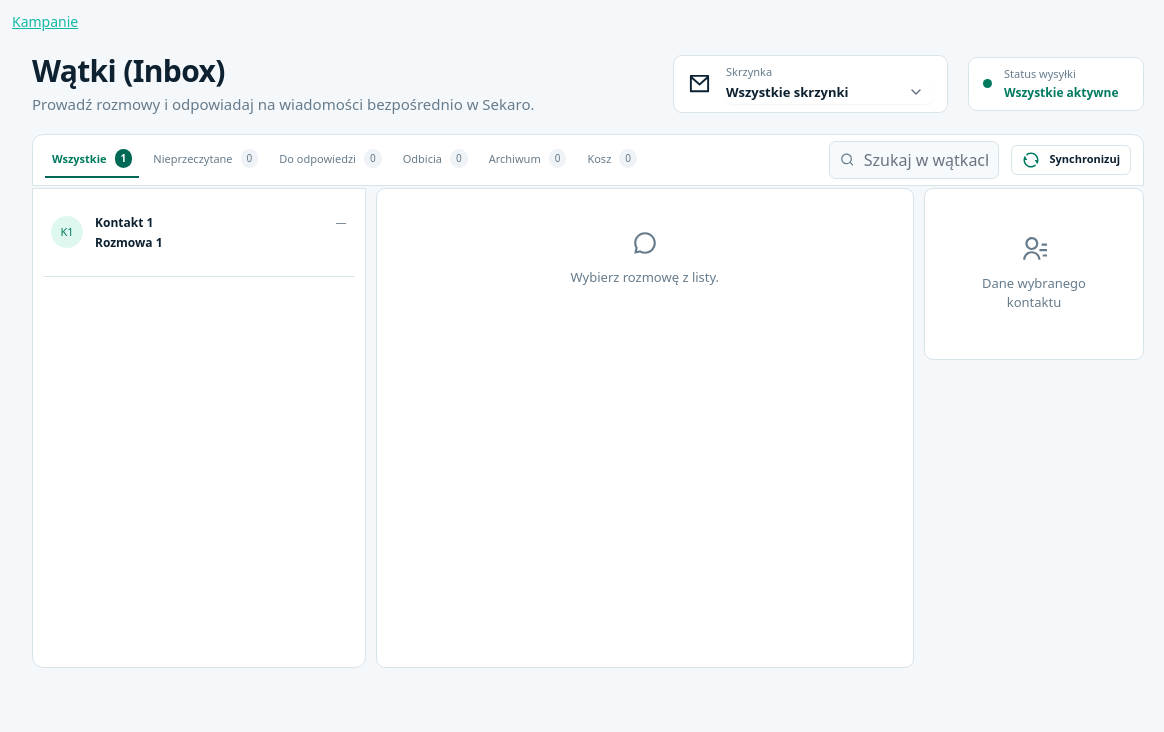
it: archives a thread without sending and preserves its draft on restore
The width and height of the screenshot is (1164, 732).
Click the button "K1 Kontakt 1 — Rozmowa 1". click: x=67, y=232
box: [43,198,355,277]
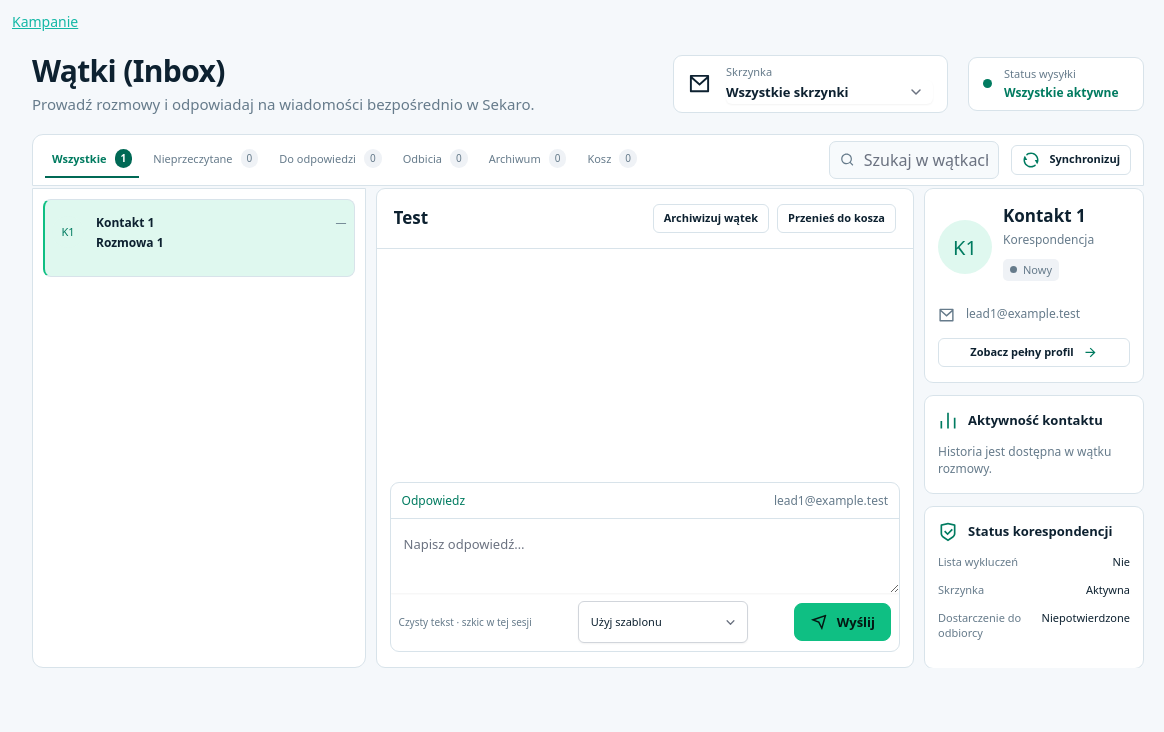
Type "Szkic do zachowania" into the text box named "Treść odpowiedzi". click: x=645, y=556
box: [391,519,899,593]
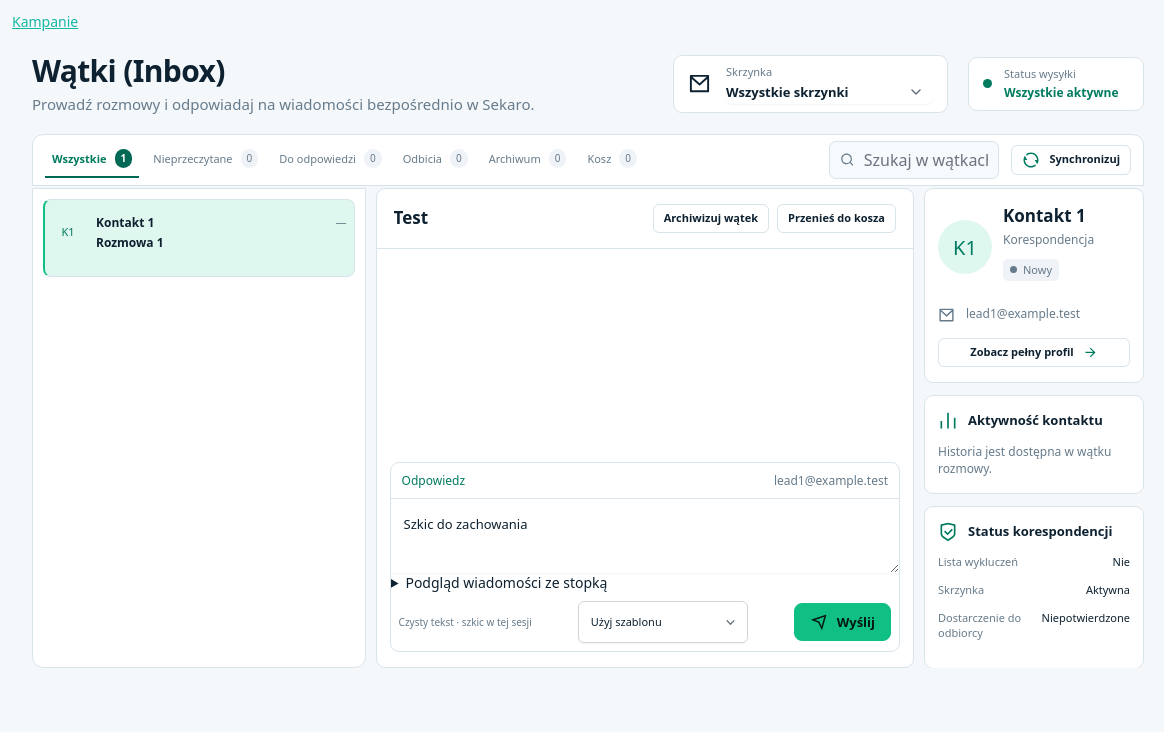
Click the button "Archiwizuj wątek". click: x=711, y=218
box: [653,204,769,232]
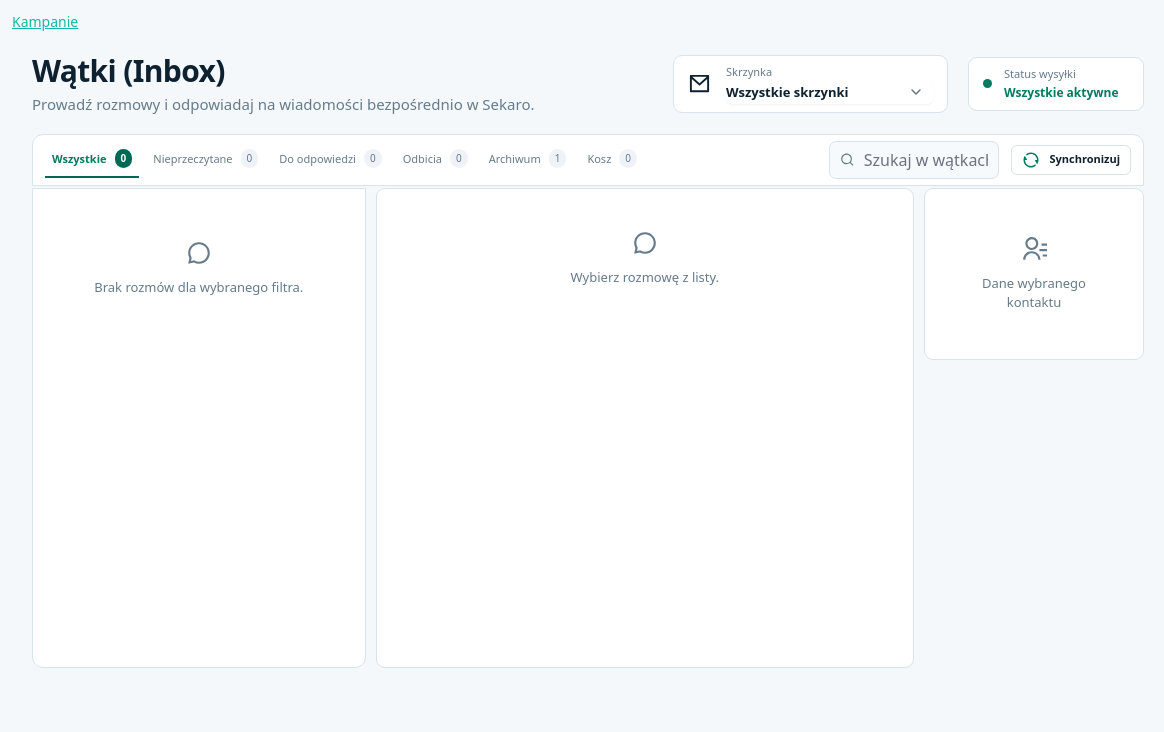
Check: the button "Archiwum 1" is shown
Check: the button "Kontakt 1" is gone
Click the button "Archiwum 1". click: x=528, y=160
box: [482,141,573,178]
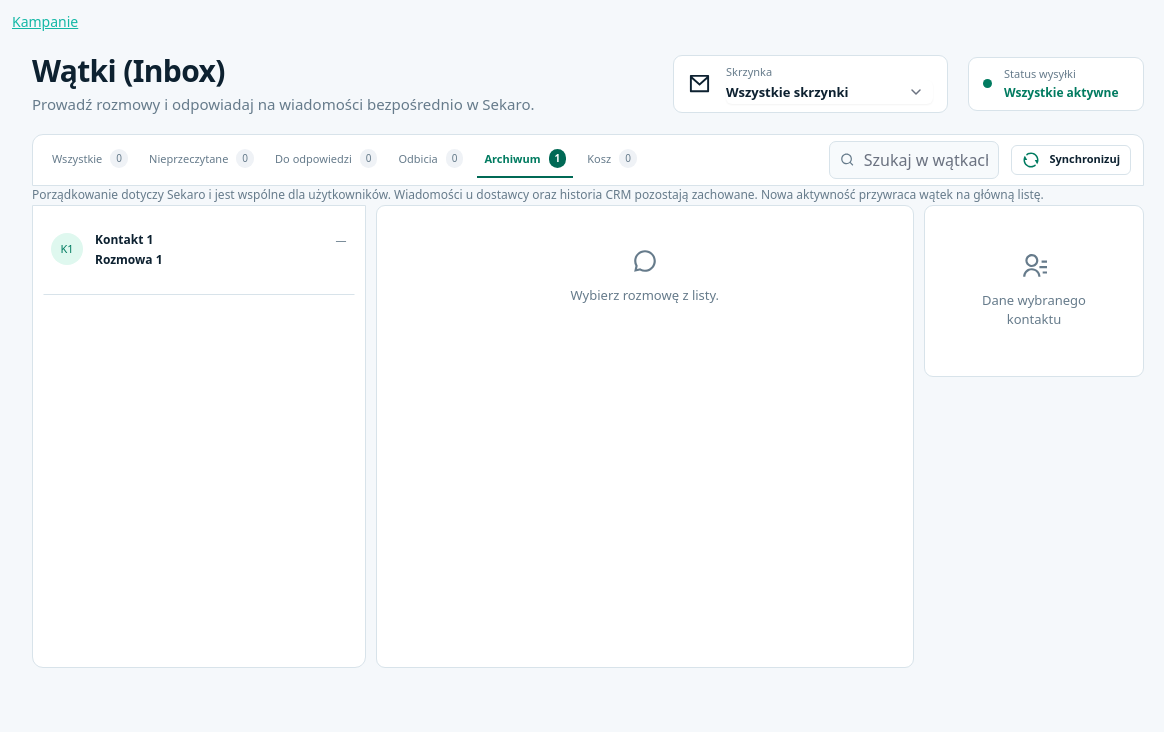
Click the button "K1 Kontakt 1 — Rozmowa 1". click: x=67, y=249
box: [43,216,355,295]
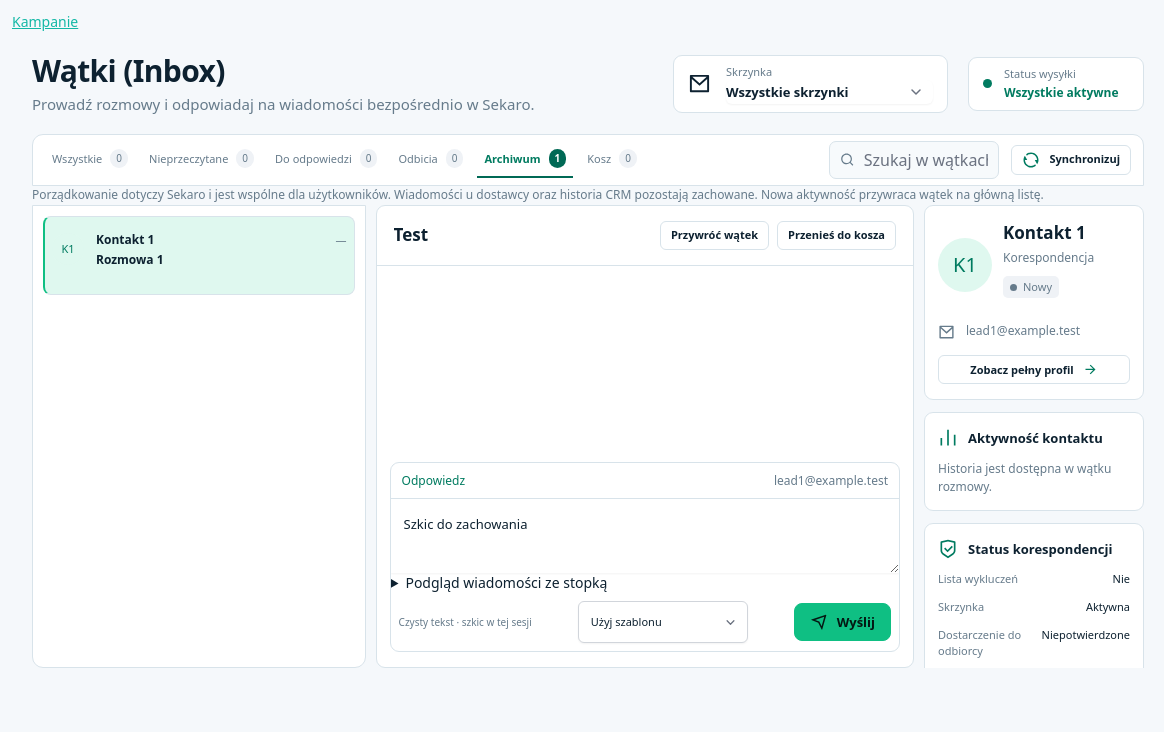
Check: the text box named "Treść odpowiedzi" holds "Szkic do zachowania", box [391,499,899,573]
Click the button "Przywróć wątek". click: x=714, y=235
box: [660,221,769,250]
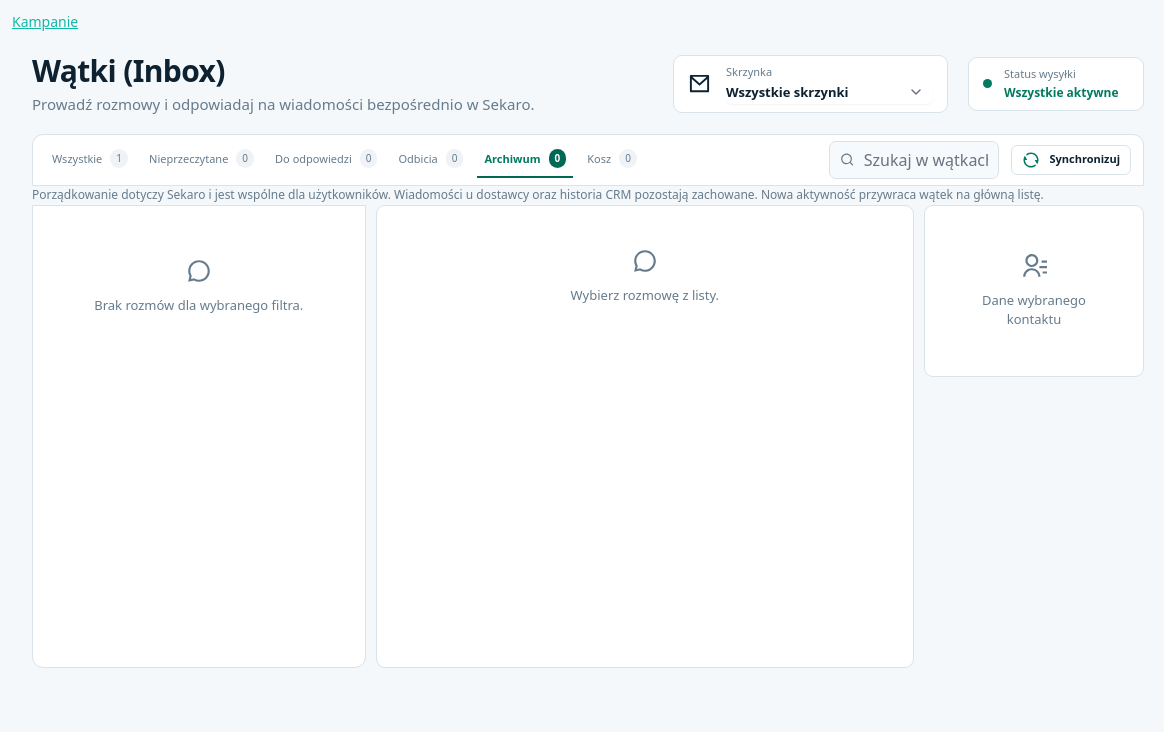
Check: the button "Archiwum 0" is shown, box [478,141,573,178]
